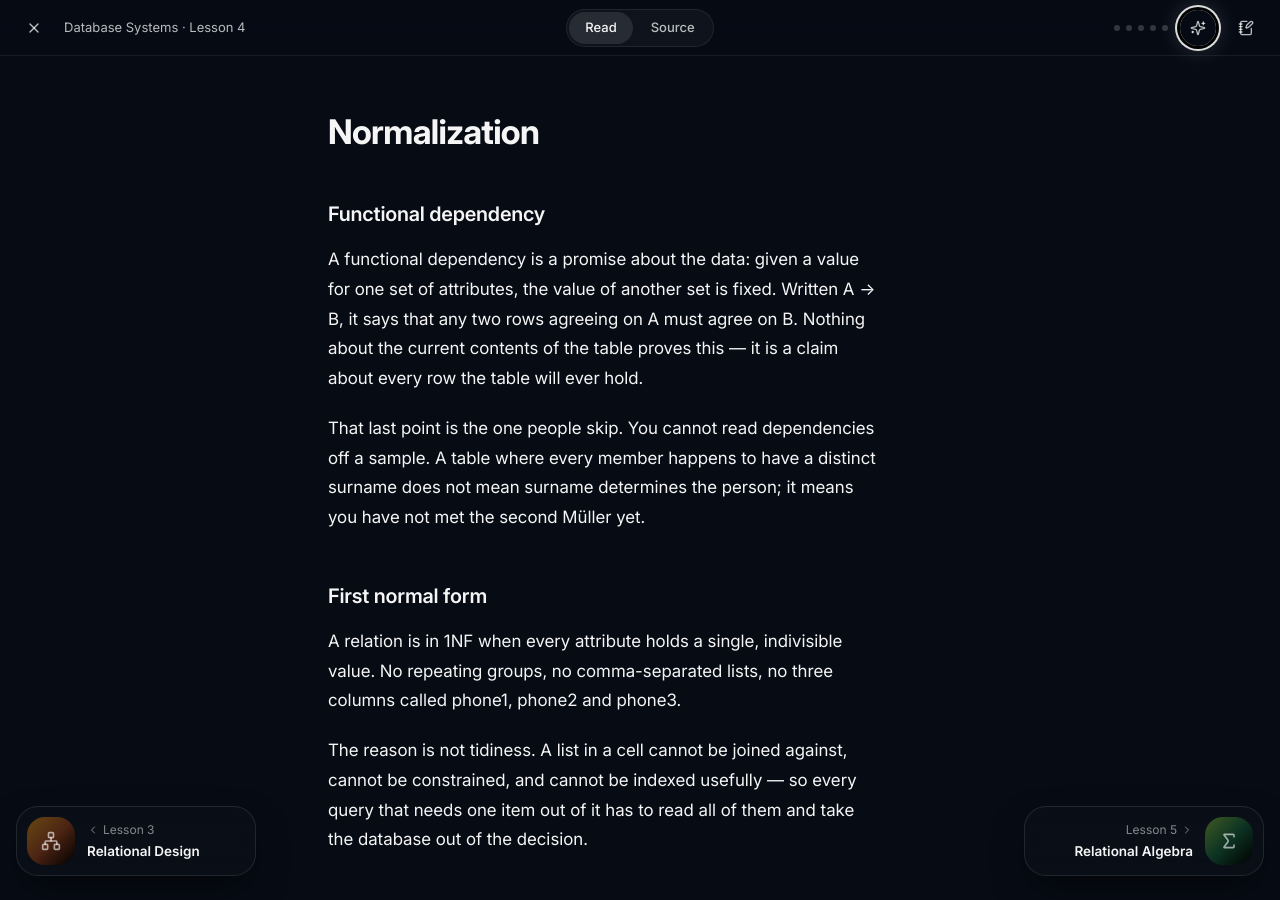
Test: the tutor sits in the rail, on the reader › turns the Material to the page a page chip names
Expected: the header is shown, [0, 0, 1279, 56]
Click the button named "Luna".
click(1198, 28)  # box [1180, 10, 1216, 46]
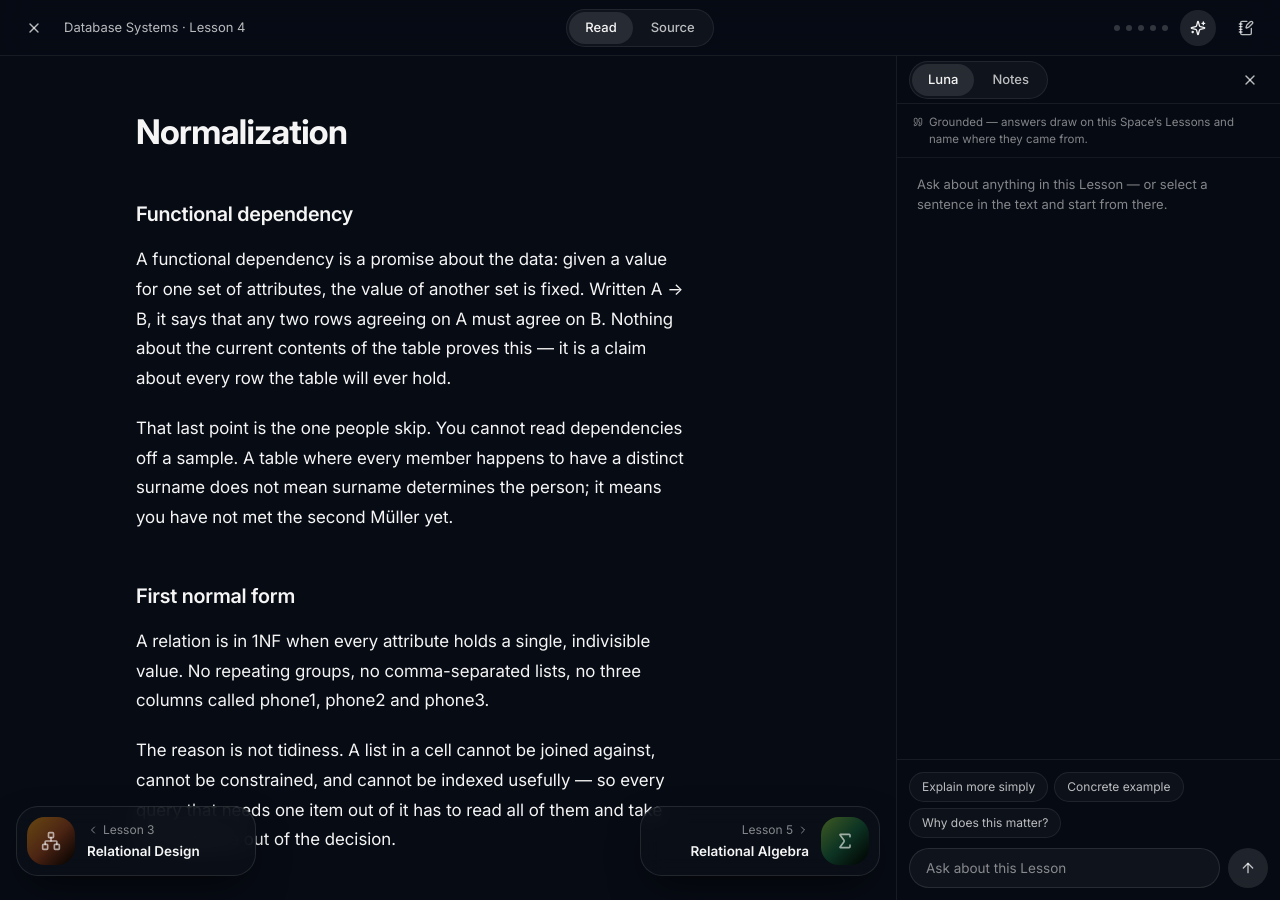
Click the button "Concrete example".
click(1119, 787)  # box [1054, 772, 1184, 802]
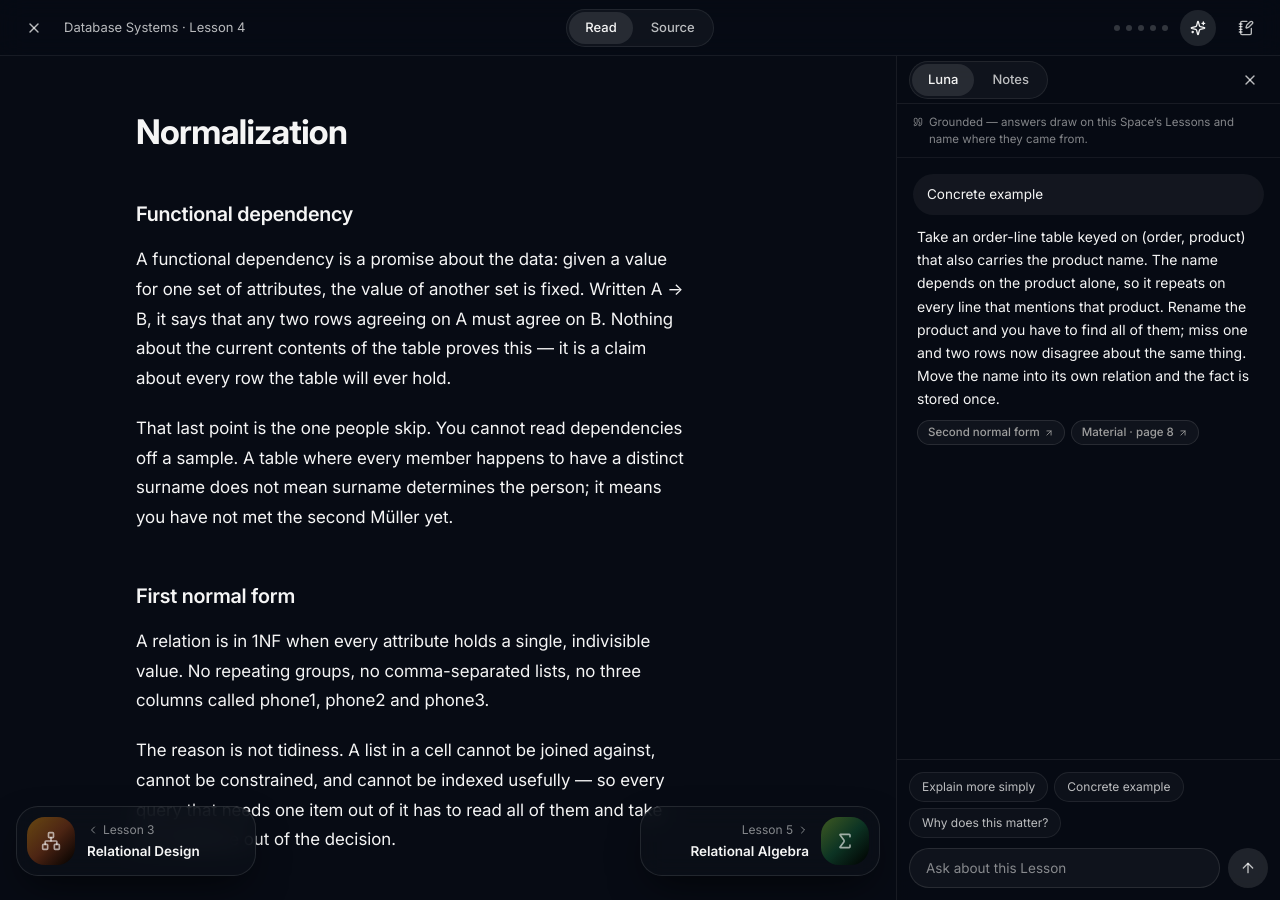
Expected: the text "Take an order-line table keyed on (order, product) that also carries the product name. The name depends on the product a" is shown, [917, 228, 1249, 407]
Click the button "Material · page 8".
click(1135, 433)  # box [1071, 420, 1199, 445]
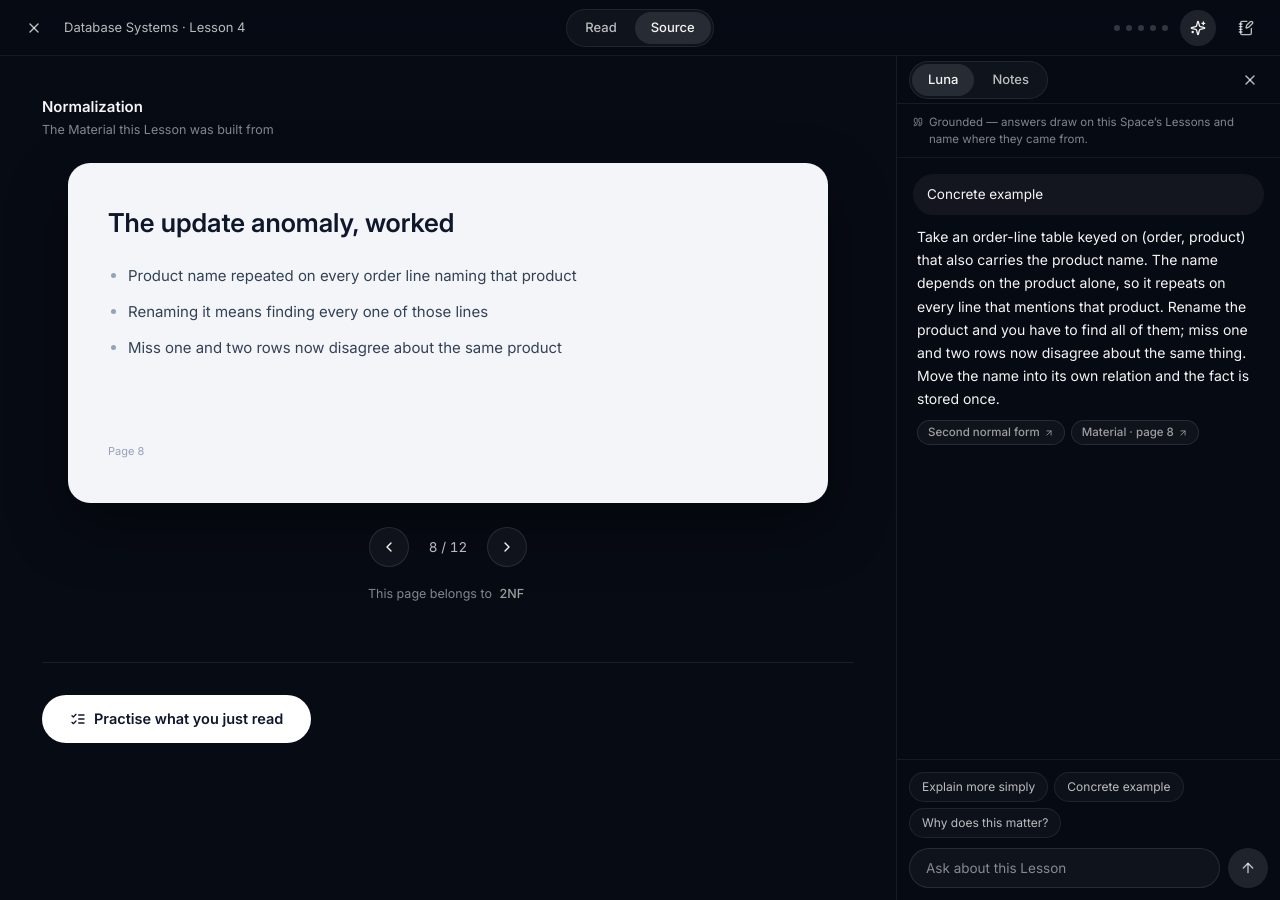
Expected: the heading "The update anomaly, worked" is shown, [108, 207, 454, 238]
Expected: the text "8 / 12" is shown, [429, 537, 467, 557]
